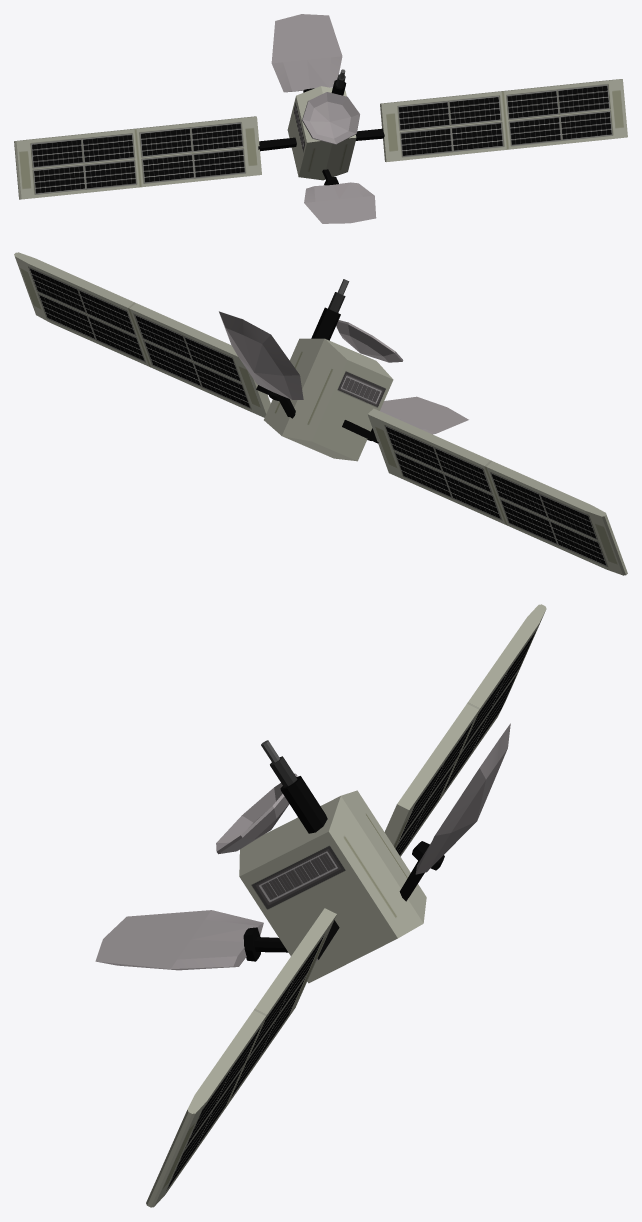
Rendered from satelite.obj.
3 views of the same model, one above another, from view 1: azimuth 30°, elevation 25°; view 2: azimuth 150°, elevation 25°; view 3: azimuth 270°, elevation 25° (orthographic). The views are drawn at different scales.
Visible parts, largest first — view 1: Cube.001_Material.005; view 2: Cube.001_Material.005; view 3: Cube.001_Material.005.
Part boxes in pixels (x1=…): Cube.001_Material.005: x1=14, y1=14, x2=627, y2=223; Cube.001_Material.005: x1=14, y1=252, x2=627, y2=575; Cube.001_Material.005: x1=95, y1=604, x2=546, y2=1207.
Size of the model in its own units: 2.49 by 0.5936 by 0.9243.
